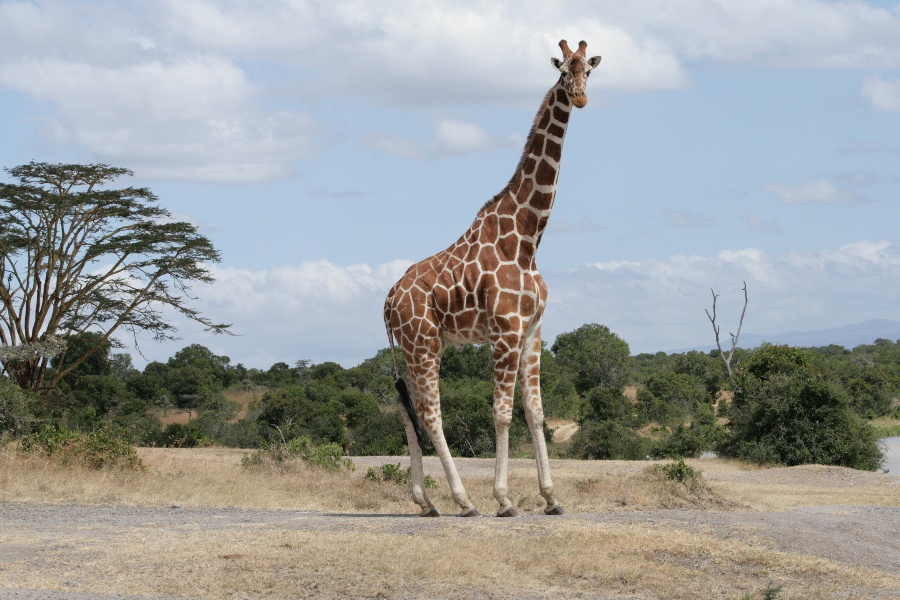giraffe: (370, 35, 610, 523)
